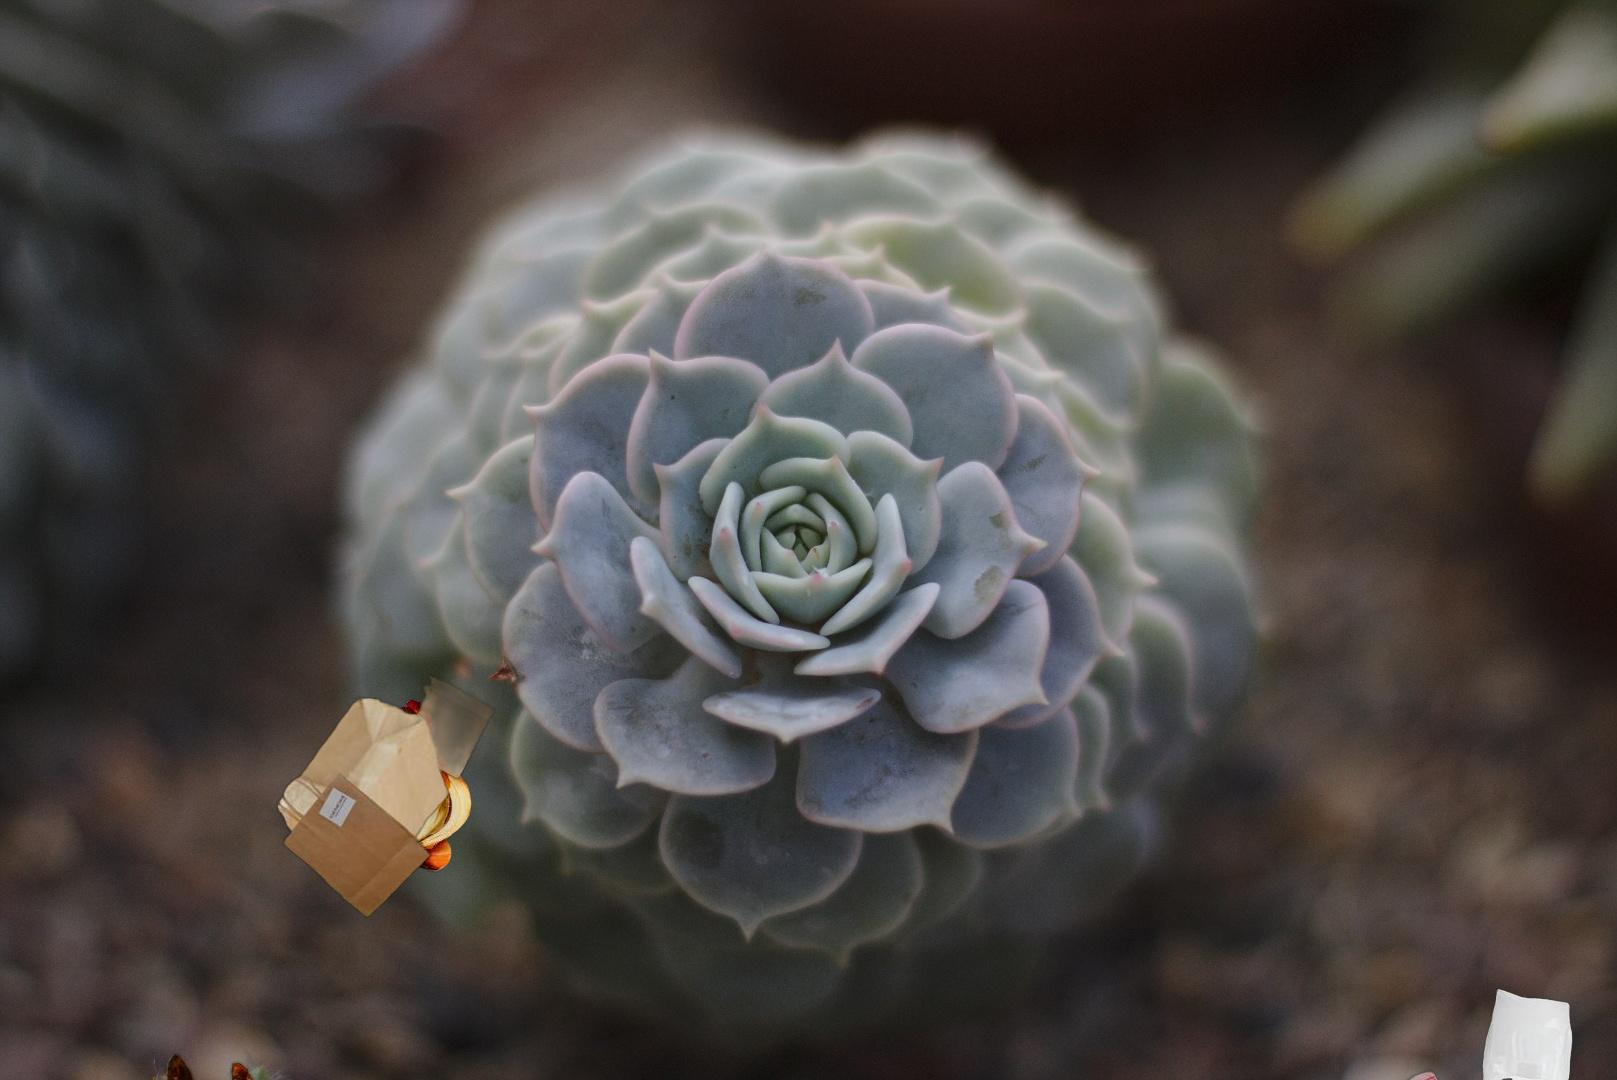biological: (120, 980, 471, 1080), (328, 695, 475, 875)
paper-bag: (275, 667, 498, 918)
plastic-bag: (1362, 986, 1575, 1080)
